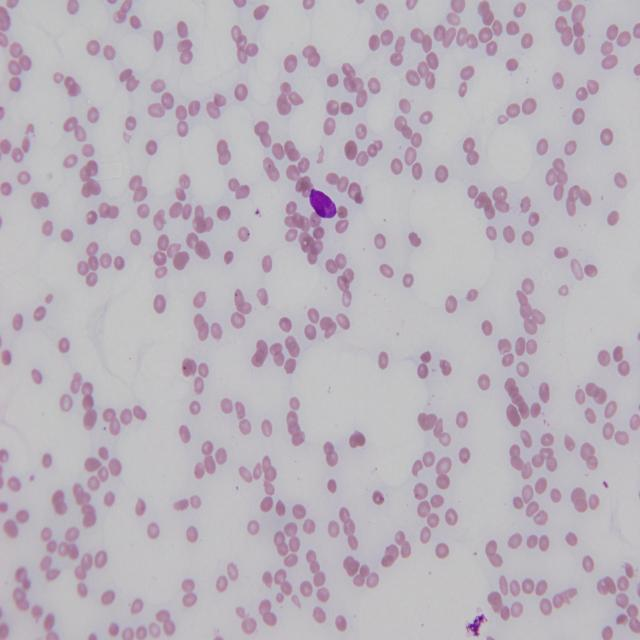cell: (310, 190, 336, 218)
